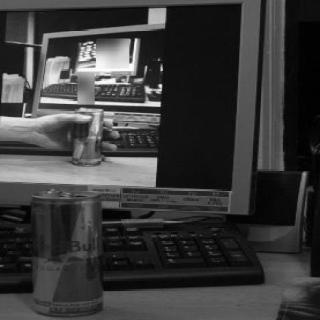alumunium_can: (28, 190, 106, 318), (72, 108, 105, 167)
